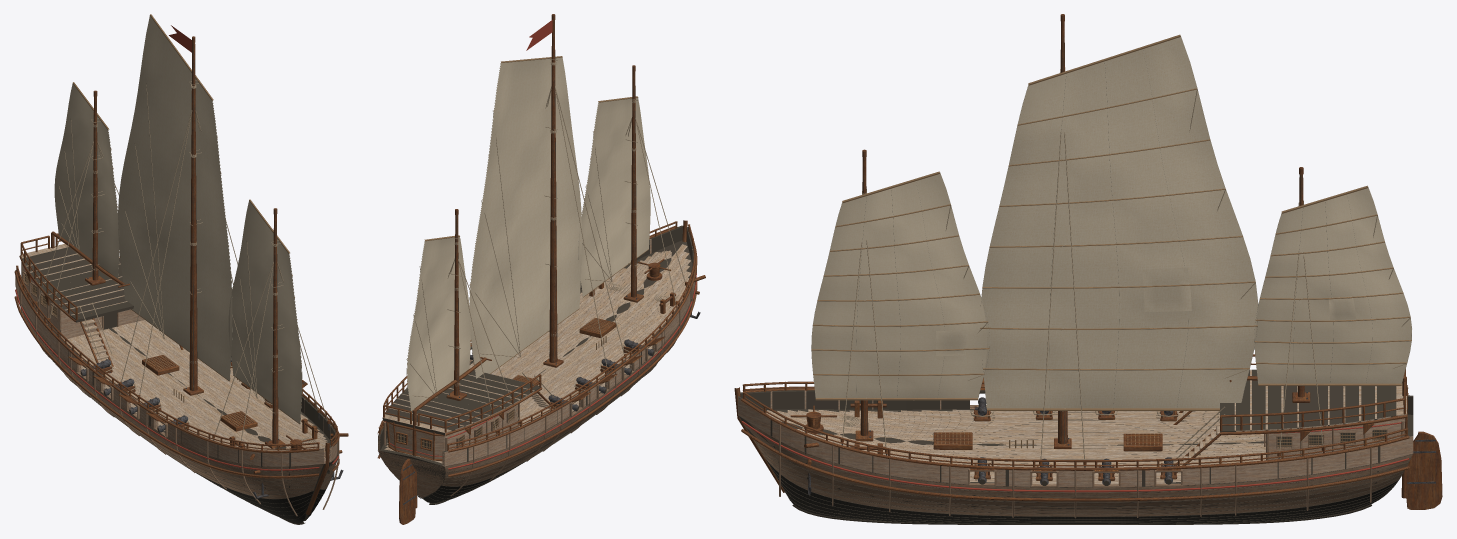
The model's file is fuchuan-lod2.glb.
3 views of the same model, side by side, from view 1: azimuth 30°, elevation 25°; view 2: azimuth 150°, elevation 25°; view 3: azimuth 270°, elevation 25° (orthographic). The views are drawn at different scales.
Parts seen in each view (by area): view 1: sail_1, hull, deck, sail_0, sail_2, shadow_deck, deck_fittings, bulwark_rails, mast_timber_1, shadow_hull, sterncastle, mast_timber_0 (+8 smaller); view 2: sail_1, deck, hull, sail_0, sail_2, shadow_deck, deck_fittings, shadow_hull, bulwark_rails, mast_timber_1, mast_timber_0, stern_transom (+9 smaller); view 3: sail_1, hull, sail_0, sail_2, deck, shadow_hull, shadow_deck, bulwark_rails, deck_fittings, rudder_blade, sterncastle, rigging_1.
Part boxes in pixels (x1,y1,x2,y2): sail_1: (118, 14, 232, 381); hull: (14, 270, 339, 524); deck: (19, 244, 330, 450); sail_0: (228, 199, 302, 424); sail_2: (54, 82, 119, 278); shadow_deck: (22, 247, 133, 322); deck_fittings: (21, 262, 348, 498); bulwark_rails: (16, 233, 338, 452); mast_timber_1: (189, 43, 197, 390); shadow_hull: (15, 270, 337, 521); sterncastle: (23, 266, 144, 339); mast_timber_0: (272, 214, 278, 443); sail_1: (469, 56, 582, 378); deck: (382, 244, 690, 463); hull: (377, 220, 697, 504); sail_0: (578, 96, 650, 297); sail_2: (406, 235, 470, 411); shadow_deck: (383, 370, 540, 435); deck_fittings: (383, 259, 705, 461); shadow_hull: (378, 225, 695, 502); bulwark_rails: (378, 221, 695, 451); mast_timber_1: (549, 20, 557, 362); mast_timber_0: (631, 71, 636, 297); stern_transom: (388, 423, 444, 458); sail_1: (980, 34, 1258, 410); hull: (734, 387, 1413, 524); sail_0: (811, 171, 989, 400); sail_2: (1254, 185, 1411, 386); deck: (766, 369, 1407, 484); shadow_hull: (738, 390, 1413, 523); shadow_deck: (1220, 369, 1396, 432); bulwark_rails: (742, 354, 1408, 467); deck_fittings: (790, 385, 1407, 494); rudder_blade: (1406, 431, 1442, 509); sterncastle: (1266, 418, 1404, 460); rigging_1: (1039, 132, 1086, 473).
Bounding box in the file's own units: 10.4 × 26.65 × 33.55.
Materials: 13 (8 with a texture image).
